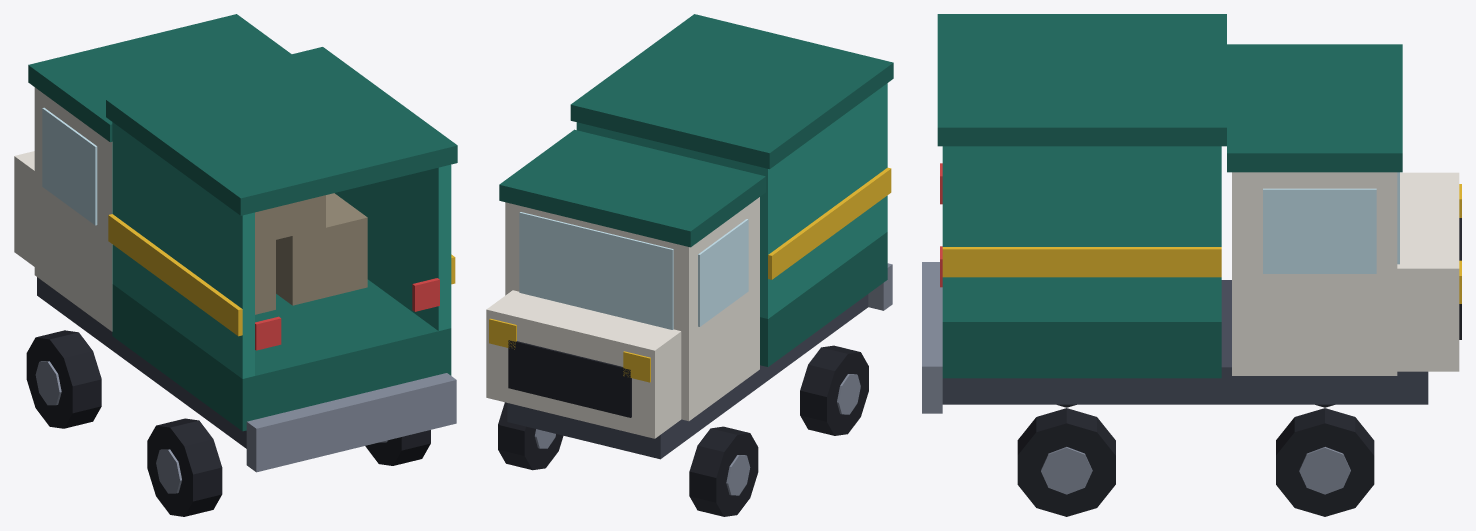
Rendered from truck.glb.
3 views of the same model, side by side, from view 1: azimuth 30°, elevation 25°; view 2: azimuth 150°, elevation 25°; view 3: azimuth 270°, elevation 25° (orthographic). The views are drawn at different scales.
Visible parts, largest first — view 1: truck; view 2: truck; view 3: truck.
Part boxes in pixels (x1,y1,x2,y2): truck: (14,14,457,516); truck: (486,14,893,516); truck: (922,14,1461,516).
Bounding box in the file's own units: 0.58 × 0.82 × 1.05.
Materials: 1 (1 with a texture image).
